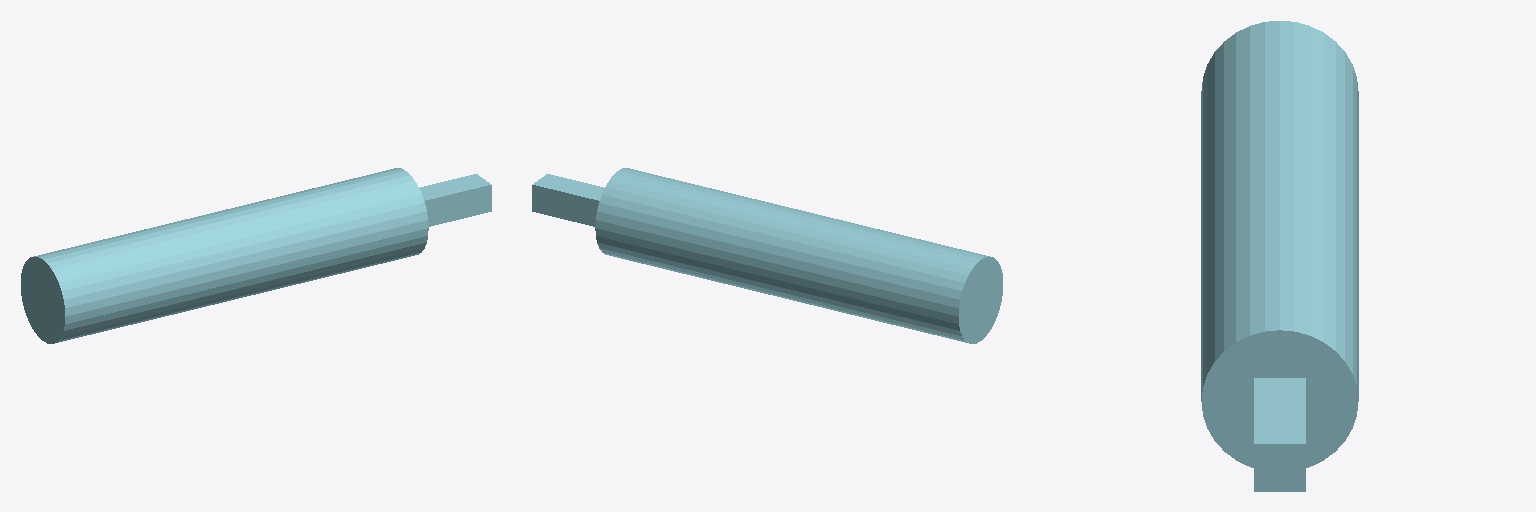
robot.urdf — primitive_thick_marker:
<?xml version="1.0"?>
<robot name="primitive_thick_marker">

  <link name="primitive_thick_marker">
    <!-- Handle -->
    <visual>
      <origin xyz="0 0 0" rpy="0 1.5707963267948966 0"/>
      <geometry>
        <cylinder length="0.14" radius="0.015"/>
      </geometry>
      <material name="material">
        <color rgba="0.639 0.847 0.882 1.0"/>
      </material>
    </visual>
    <collision>
      <origin xyz="0 0 0" rpy="0 1.5707963267948966 0"/>
      <geometry>
        <cylinder length="0.14" radius="0.015"/>
      </geometry>
    </collision>

    <!-- Head -->
    <visual>
      <origin xyz="0.085 0 0" rpy="0 0 0"/>
      <geometry>
        <box size="0.03 0.01 0.01"/>
      </geometry>
      <material name="material">
        <color rgba="0.639 0.847 0.882 1.0"/>
      </material>
    </visual>
    <collision>
      <origin xyz="0.085 0 0" rpy="0 0 0"/>
      <geometry>
        <box size="0.03 0.01 0.01"/>
      </geometry>
    </collision>

    <inertial>
      <density value="400.0"/>
    </inertial>
  </link>

</robot>

--- What the picture shows (computed from the rendered views, not written in the file) ---
3 views of the same robot in one strip: view 1: azimuth 30°, elevation 25°; view 2: azimuth 150°, elevation 25°; view 3: azimuth 270°, elevation 25° (orthographic).
Model primitive_thick_marker with 1 links and 0 joints (none), rooted at primitive_thick_marker, posed all joints at 0.
Links seen in each view (by area): view 1: primitive_thick_marker; view 2: primitive_thick_marker; view 3: primitive_thick_marker.
Link boxes in pixels (box(x1,y1,x2,y2)): primitive_thick_marker: box(21, 168, 491, 343); primitive_thick_marker: box(532, 168, 1002, 343); primitive_thick_marker: box(1201, 21, 1358, 491).
Size in the robot's own frame: 0.17 by 0.03 by 0.03 metres.
Geometry: primitives only (box / cylinder / sphere), no mesh files.
